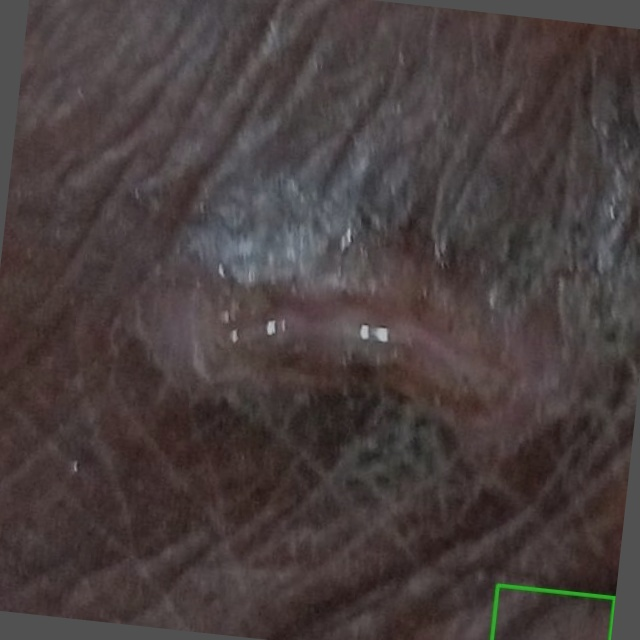Eczema: (490, 585, 614, 639)
